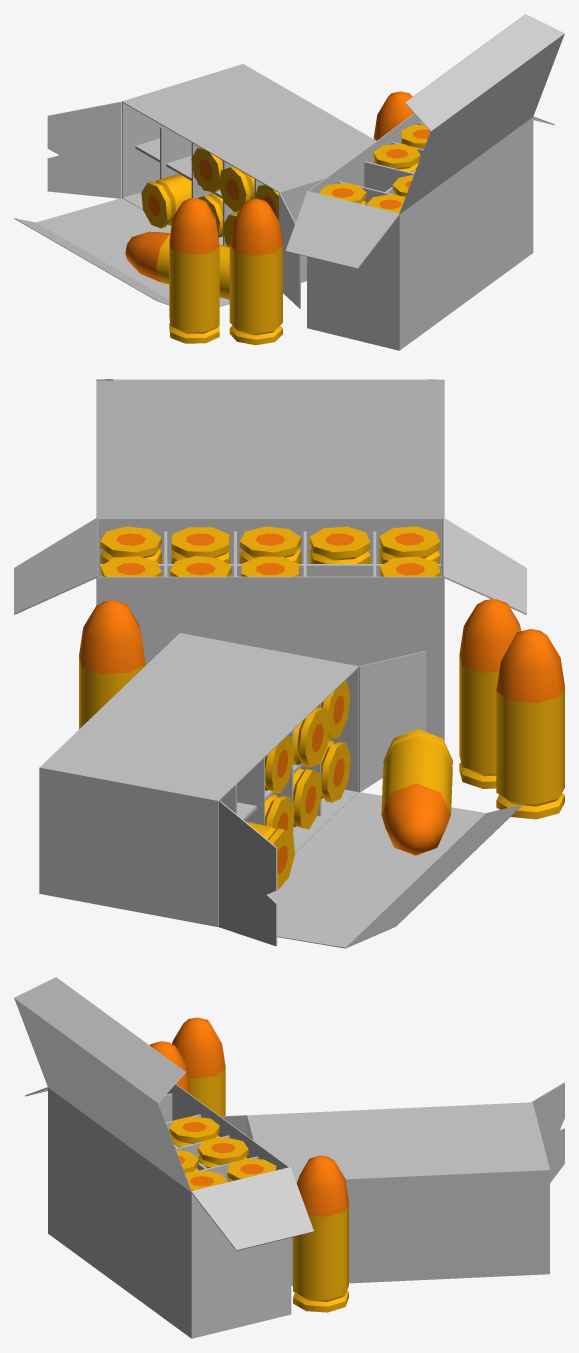
File: Pistol_Ammo.fbx
3 renders of one model, top to bottom at view 1: azimuth 30°, elevation 25°; view 2: azimuth 150°, elevation 25°; view 3: azimuth 270°, elevation 25°, orthographic. The views are drawn at different scales.
Parts seen in each view (by area): view 1: Cube; view 2: Cube; view 3: Cube.
Part boxes in pixels (x1,y1,x2,y2): Cube: (14, 14, 564, 350); Cube: (14, 379, 564, 948); Cube: (14, 977, 564, 1338).
Size of the model in its own units: 0.9 by 0.502 by 0.9588.
